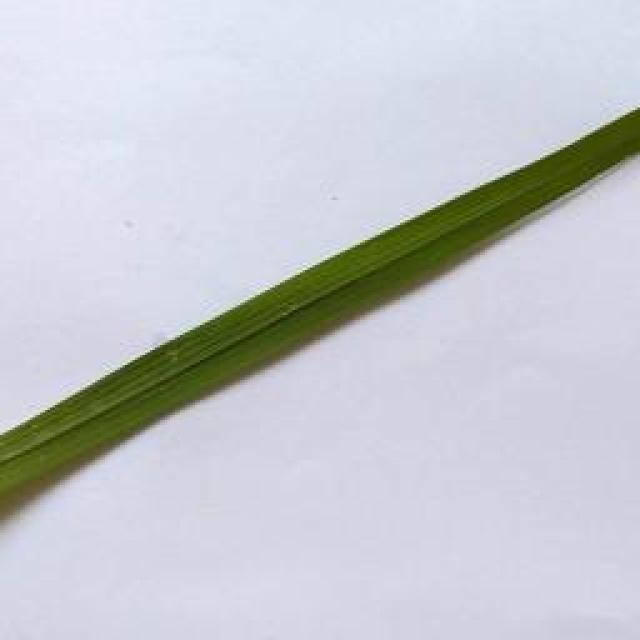Healthy-Plant: (110, 103, 635, 429)
